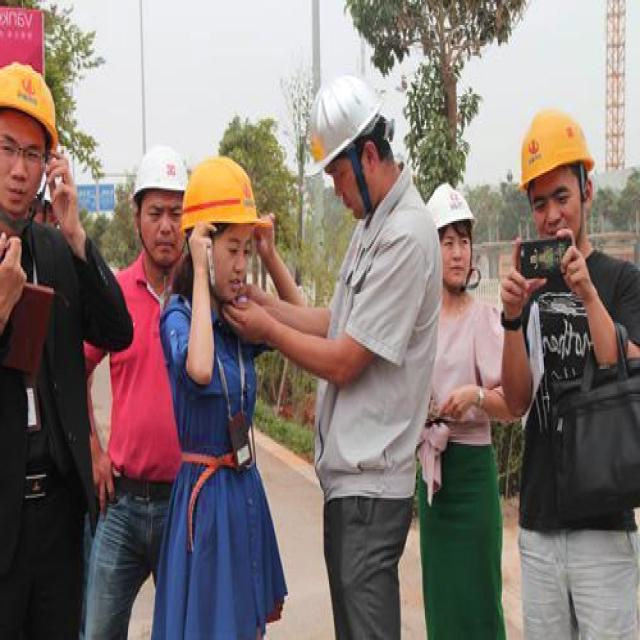face_nomask: (0, 127, 46, 211), (206, 217, 251, 300), (536, 175, 588, 244), (324, 144, 365, 221), (141, 192, 179, 267), (440, 236, 475, 294)
hand_noglove: (560, 246, 610, 315), (0, 232, 26, 356), (83, 427, 115, 521), (501, 250, 535, 334), (212, 298, 268, 348), (442, 371, 480, 442), (44, 156, 74, 244), (252, 208, 286, 280), (186, 221, 211, 279)
head_helmet: (294, 79, 386, 177), (178, 152, 264, 238), (0, 60, 59, 144), (520, 111, 594, 177), (133, 144, 197, 192), (425, 178, 477, 232)
person: (298, 75, 424, 621), (517, 113, 640, 637), (160, 151, 288, 639), (78, 131, 195, 615), (0, 61, 85, 616), (418, 182, 506, 640)
